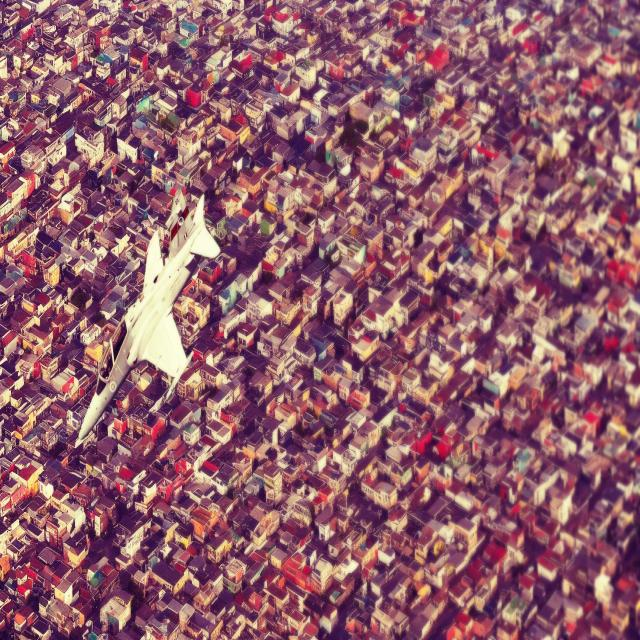airplane: (74, 188, 220, 449)
